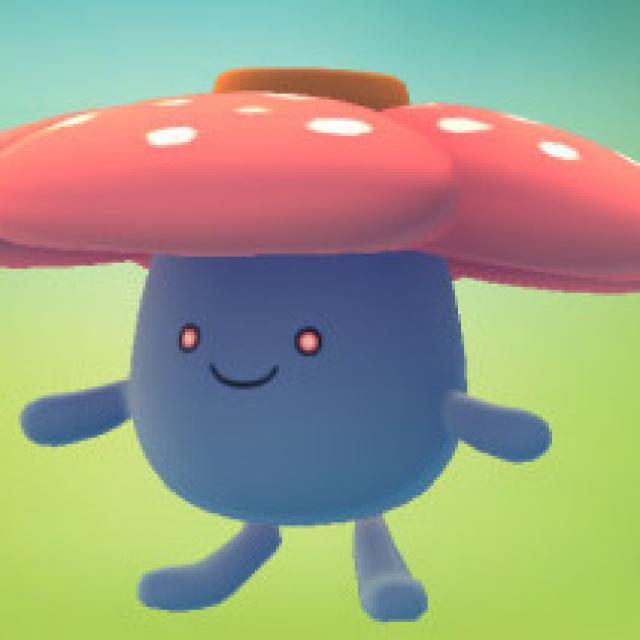Vileplume: (98, 58, 494, 550)
